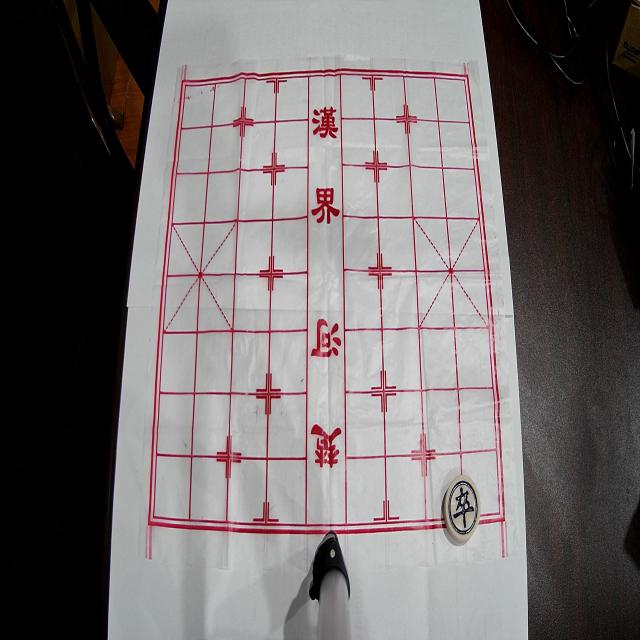black-soldier: (444, 475, 481, 542)
